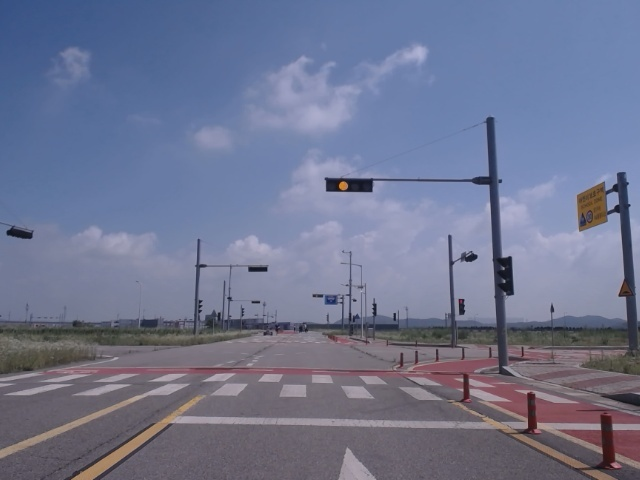orange_4: (328, 179, 374, 192)
